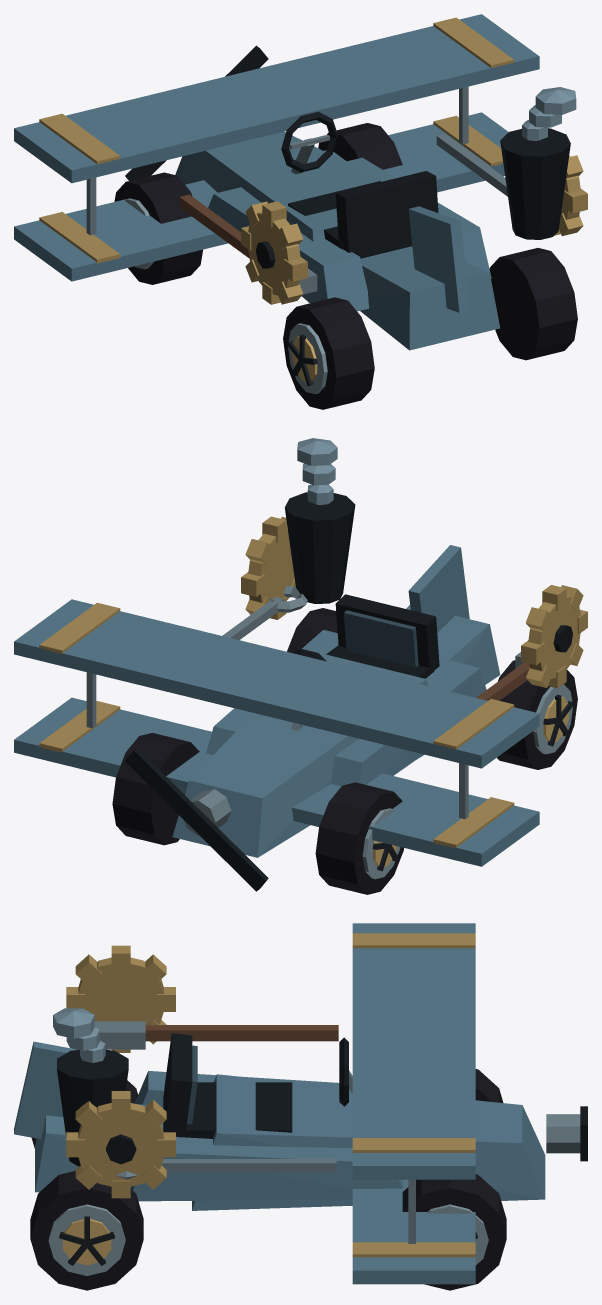
Rendered from kart.glb.
3 renders of one model, top to bottom at view 1: azimuth 30°, elevation 25°; view 2: azimuth 150°, elevation 25°; view 3: azimuth 270°, elevation 25°, orthographic. The views are drawn at different scales.
Parts seen in each view (by area): view 1: identity-biplane-biplane-dual-wings-and-propeller, identity-biplane-driver-cockpit, wheel-rear-left, identity-biplane-motif-steam, wheel-rear-right, identity-biplane-motif-gears, wheel-front-left, identity-biplane-motif-tools, wheel-front-right; view 2: identity-biplane-biplane-dual-wings-and-propeller, identity-biplane-motif-gears, identity-biplane-motif-steam, wheel-front-left, identity-biplane-driver-cockpit, wheel-front-right, wheel-rear-left, identity-biplane-motif-tools, wheel-rear-right; view 3: identity-biplane-biplane-dual-wings-and-propeller, identity-biplane-motif-gears, wheel-rear-right, identity-biplane-motif-tools, identity-biplane-driver-cockpit, identity-biplane-motif-steam, wheel-front-right, wheel-front-left.
Boxes of the visible parts, x1=… form: identity-biplane-biplane-dual-wings-and-propeller: x1=14, y1=14, x2=539, y2=350; identity-biplane-driver-cockpit: x1=281, y1=111, x2=438, y2=258; wheel-rear-left: x1=283, y1=297, x2=374, y2=409; identity-biplane-motif-steam: x1=500, y1=87, x2=576, y2=239; wheel-rear-right: x1=489, y1=248, x2=577, y2=360; identity-biplane-motif-gears: x1=241, y1=155, x2=587, y2=304; wheel-front-left: x1=114, y1=172, x2=202, y2=284; identity-biplane-motif-tools: x1=179, y1=134, x2=507, y2=294; wheel-front-right: x1=318, y1=123, x2=402, y2=169; identity-biplane-biplane-dual-wings-and-propeller: x1=14, y1=545, x2=539, y2=891; identity-biplane-motif-gears: x1=241, y1=516, x2=587, y2=688; identity-biplane-motif-steam: x1=284, y1=438, x2=355, y2=603; wheel-front-left: x1=315, y1=782, x2=403, y2=894; identity-biplane-driver-cockpit: x1=291, y1=594, x2=439, y2=730; wheel-front-right: x1=112, y1=733, x2=199, y2=845; wheel-rear-left: x1=497, y1=660, x2=577, y2=769; identity-biplane-motif-tools: x1=222, y1=586, x2=529, y2=700; wheel-rear-right: x1=287, y1=608, x2=337, y2=652; identity-biplane-biplane-dual-wings-and-propeller: x1=14, y1=923, x2=587, y2=1284; identity-biplane-motif-gears: x1=66, y1=945, x2=175, y2=1198; wheel-rear-right: x1=30, y1=1171, x2=143, y2=1290; identity-biplane-motif-tools: x1=94, y1=1021, x2=338, y2=1179; identity-biplane-driver-cockpit: x1=163, y1=1033, x2=352, y2=1138; identity-biplane-motif-steam: x1=53, y1=1008, x2=128, y2=1166; wheel-front-right: x1=402, y1=1174, x2=506, y2=1290; wheel-front-left: x1=475, y1=1069, x2=503, y2=1102.
Size of the model in its own units: 3.04 by 1.63 by 3.04.
